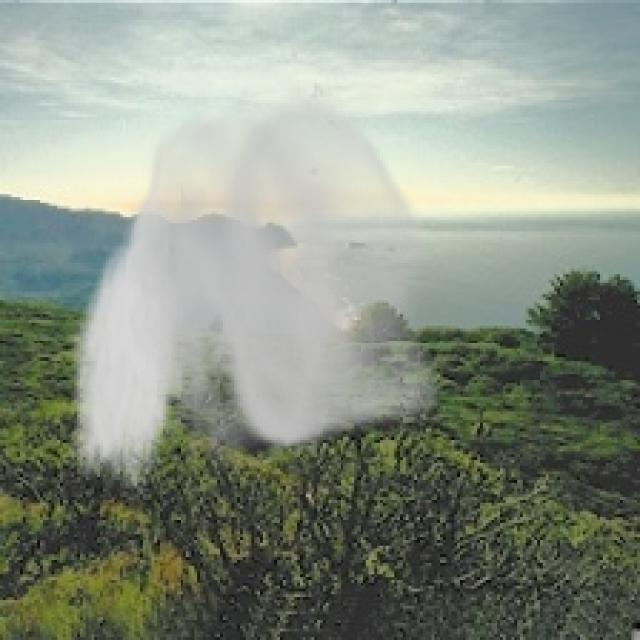smoke: (66, 80, 440, 497)
